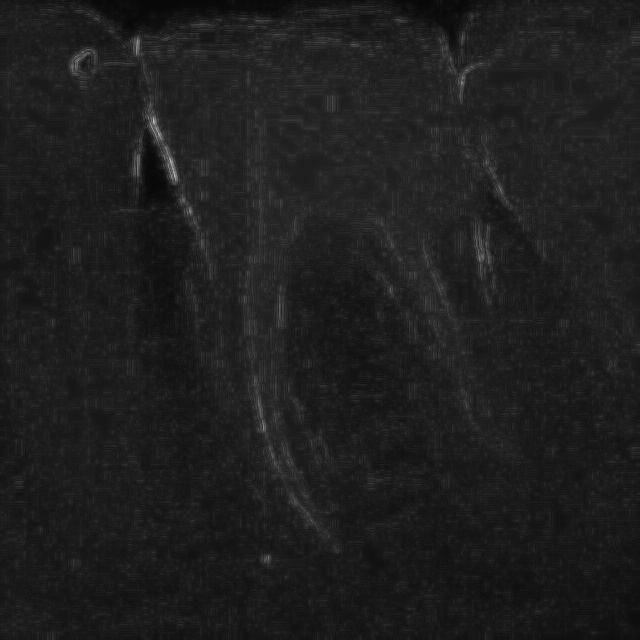Class 0- No endodontic treatment: (119, 7, 584, 564)
